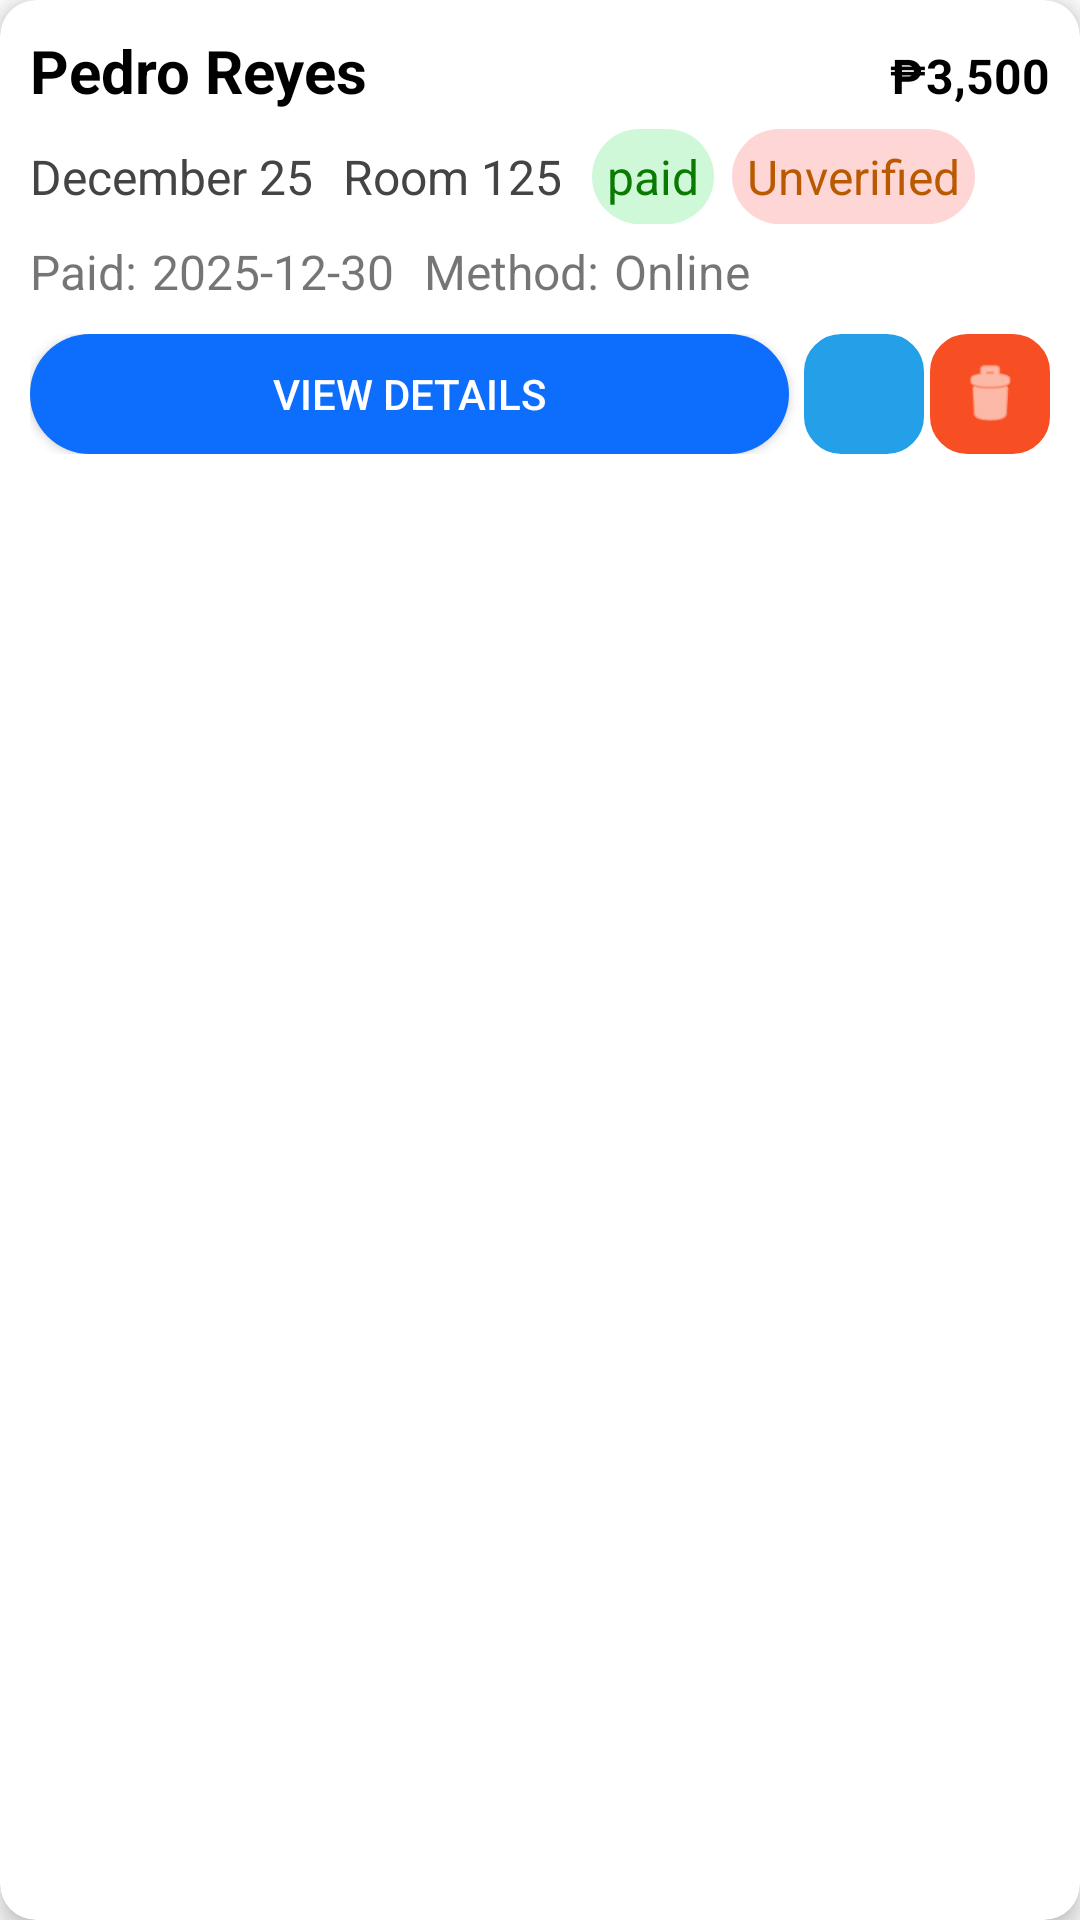

Icon bounding boxes for this 1080 × 1920 phone screenshot, format rect(x1, y1, x2, y2):
delete: rect(930, 334, 1050, 454)
